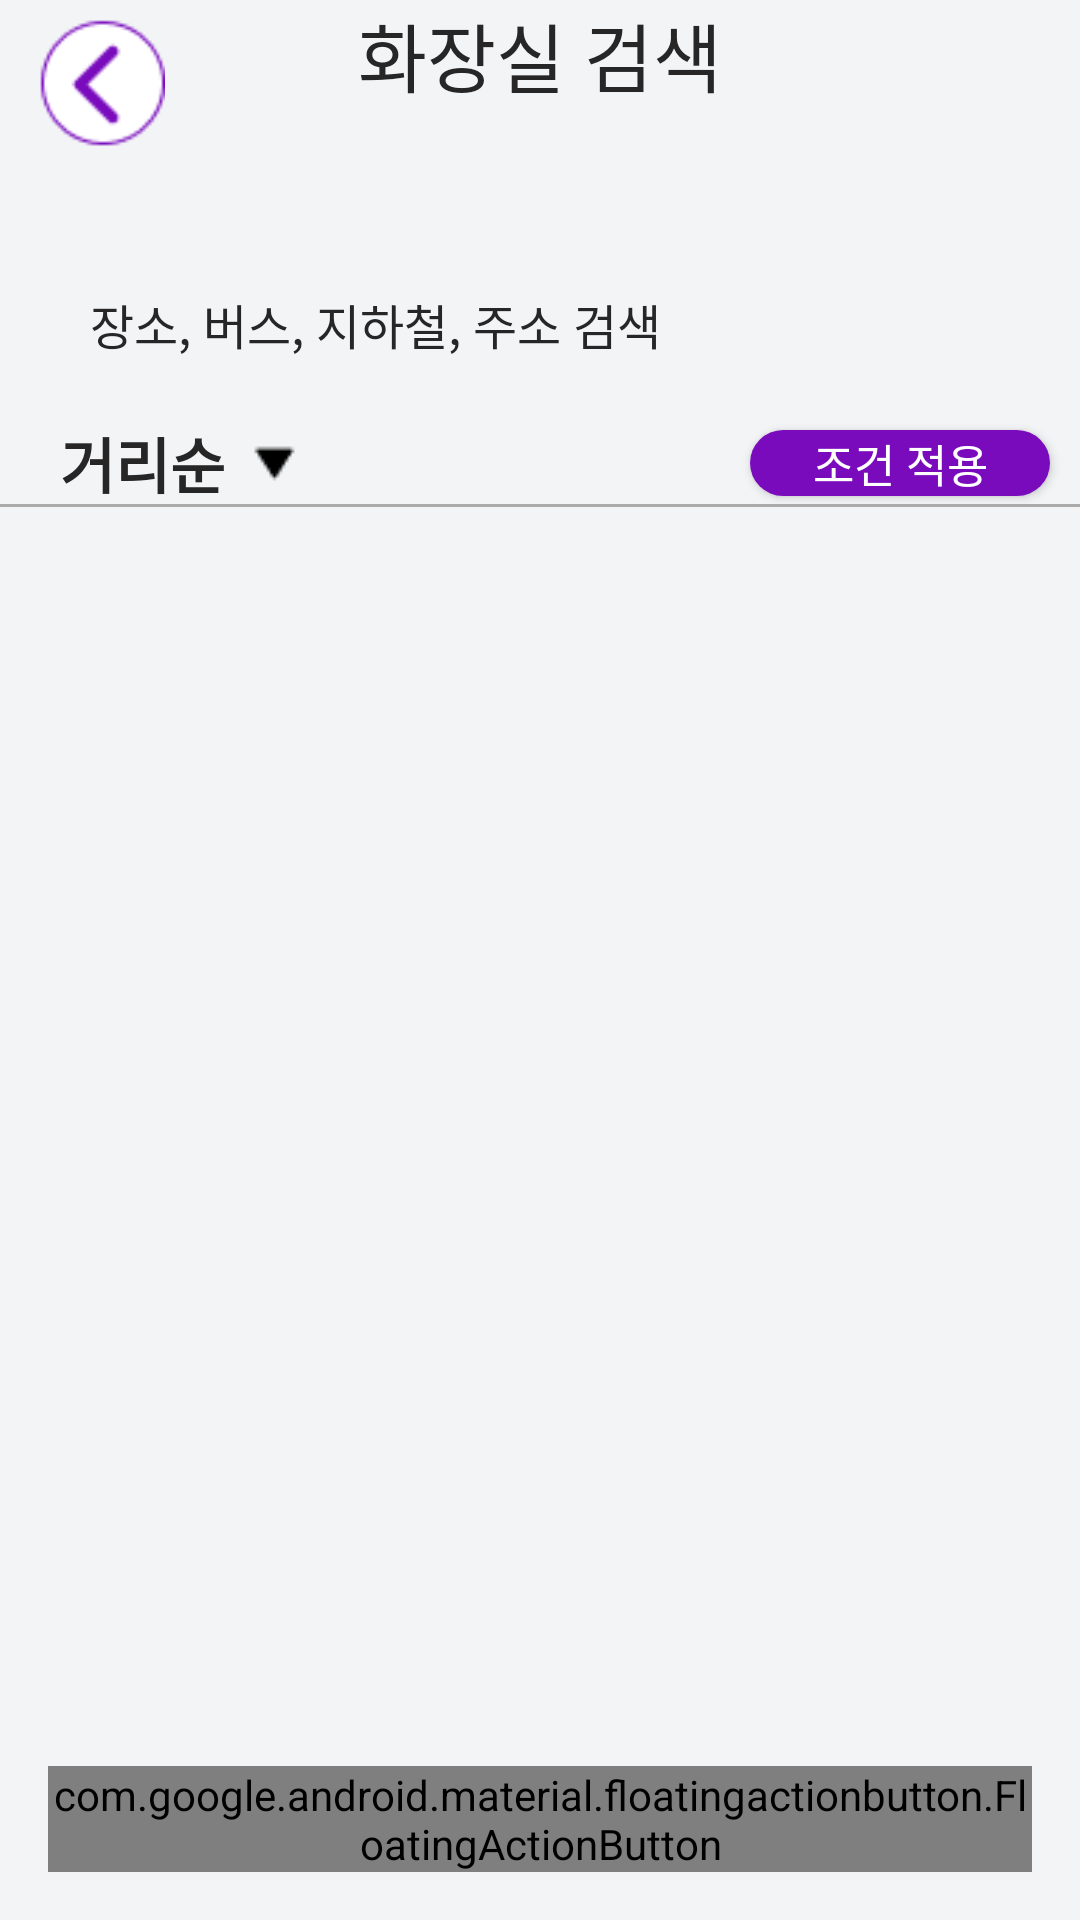

Where to tap for icons on this 1080 × 1920 app screen, as (x=x, y=y):
장소 검색 정렬 기준 선택 버튼 이미지: (x=274, y=463)
화면 뒤로 돌아가기 버튼: (x=102, y=83)
